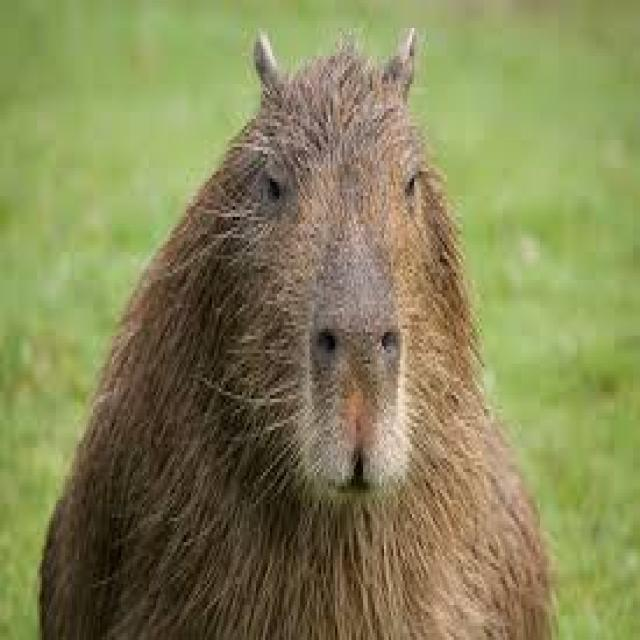capy: (36, 30, 564, 640)
